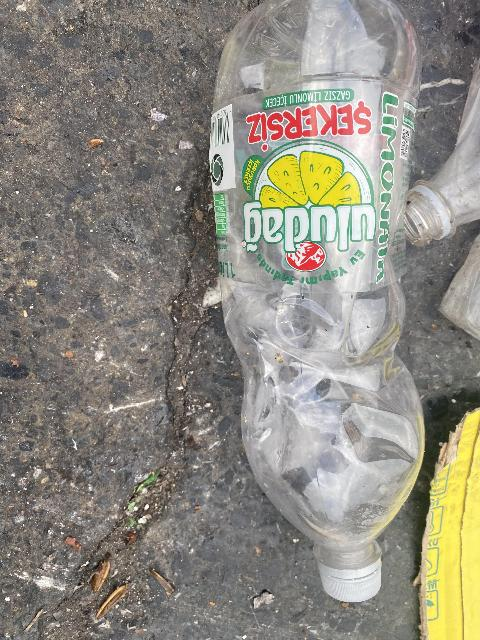Kagit: (425, 398, 480, 640), (321, 567, 379, 605)
Plastik: (206, 0, 429, 603), (200, 110, 403, 262), (402, 73, 480, 259)
